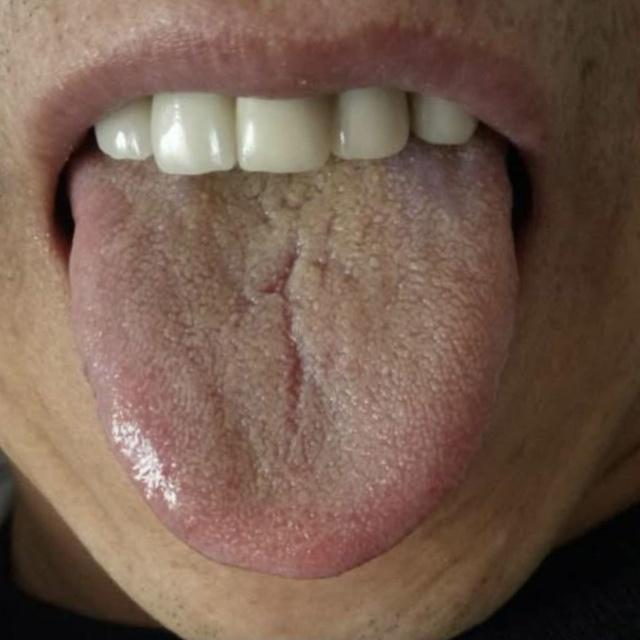huangtaishe: (70, 173, 522, 581)
liewenshe: (257, 245, 310, 448)
